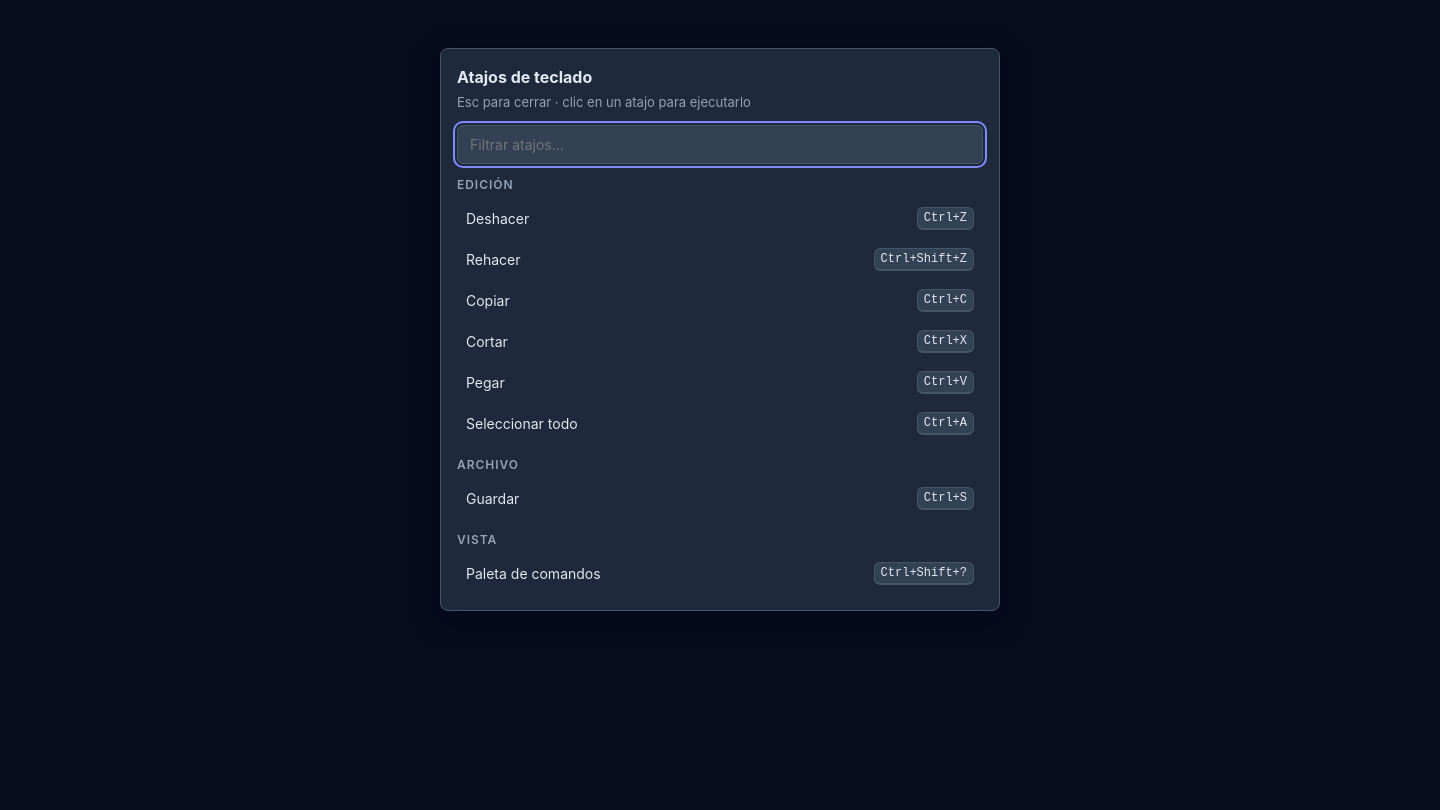
Test: ShortcutPalette › muestra "Sin coincidencias" cuando nada matchea
Type "zzznothing" into the search field labelled "Filtrar atajos".
click(720, 144); type("zzznothing")  # box [457, 124, 983, 164]
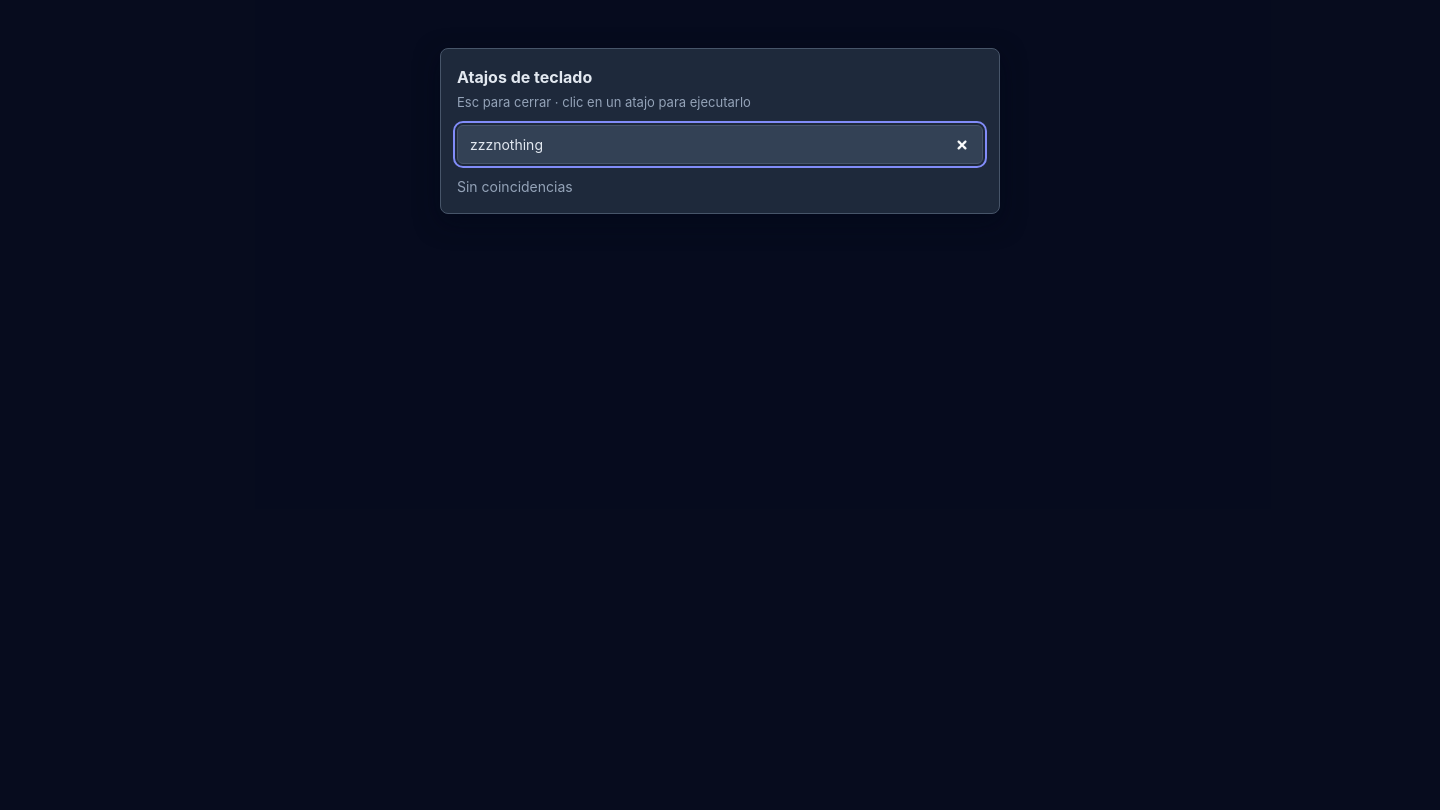
Expected: the text "Sin coincidencias" is shown, [457, 178, 573, 194]
